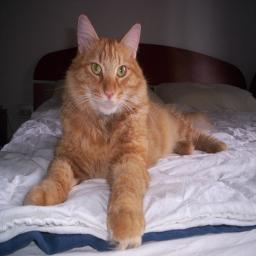catnose: (103, 85, 116, 99)
